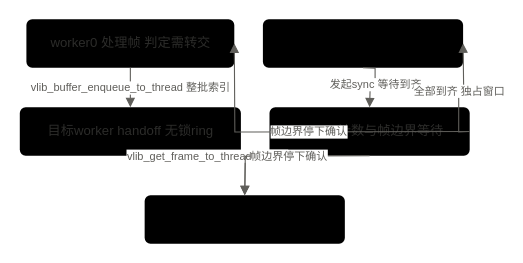
Image size: 523x263. Some labels were removed from this diagram. Here are the shapes that lost their labels. From the top down, the box of each, then its label:
(262, 18, 463, 68): main thread 全局配置变更
(144, 194, 345, 244): worker1 批量取帧继续处理
